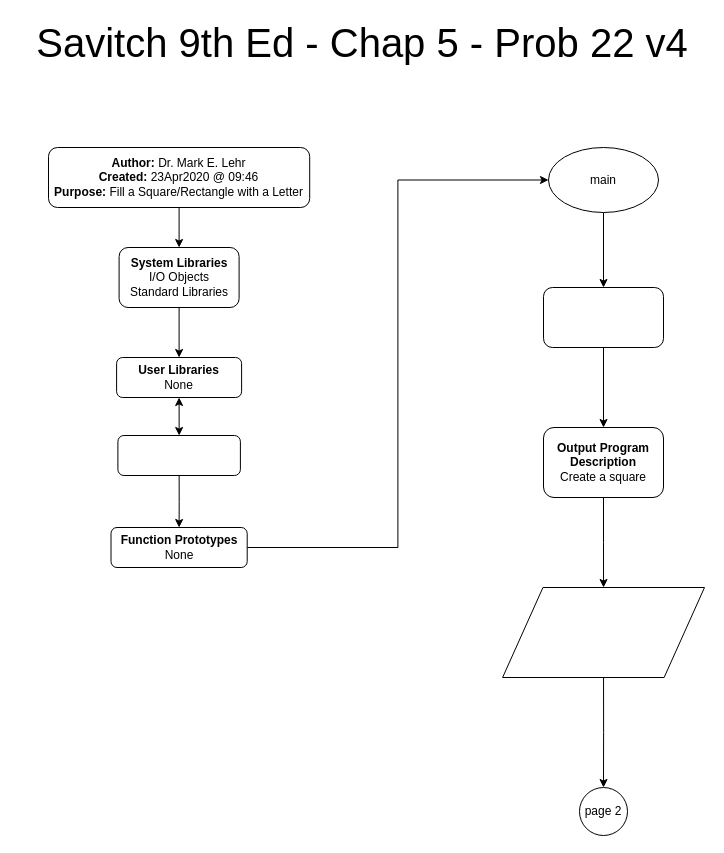
The diagram is 724 pixels wide and 853 high, and some of its shapes have lost their labels. The box of each missing label's shape, as (x1, y1, x2, y2) in pixels:
Declare Variables letter size: (542, 286, 664, 348)
Global Constants None: (117, 434, 240, 476)
Prompt for Input Input the size and the character to draw Input size, then shape: (502, 586, 704, 678)
